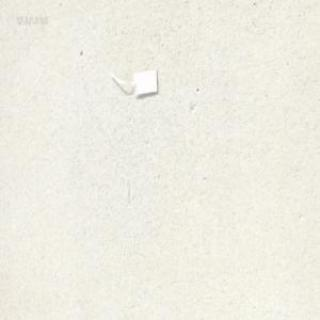LuggageTagtrack_idkeyframe: (106, 64, 160, 98)
